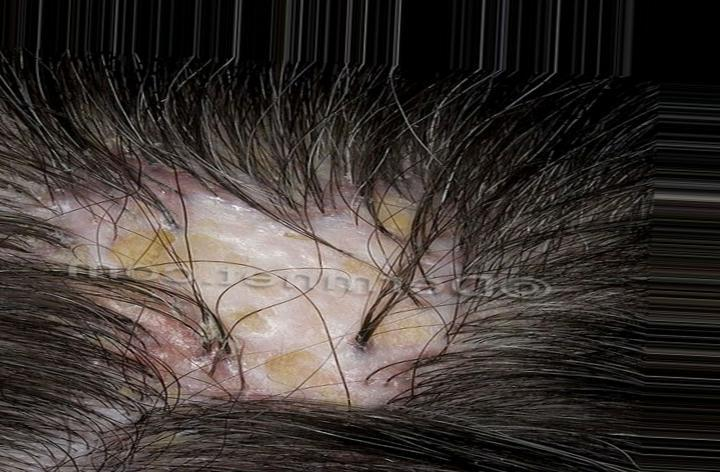Folliculitis: (75, 152, 420, 435)
